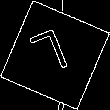L_S: (31, 26, 79, 84)
